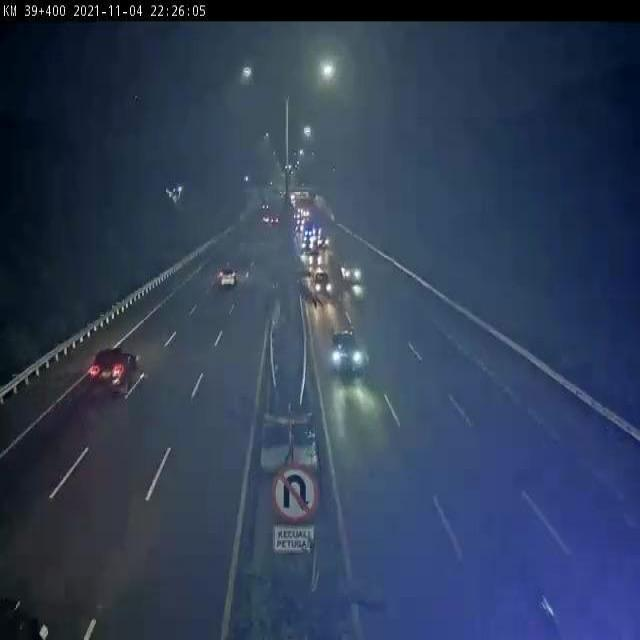car: (326, 331, 382, 392), (92, 349, 146, 399), (312, 265, 334, 300), (340, 260, 369, 285), (217, 267, 238, 293)
